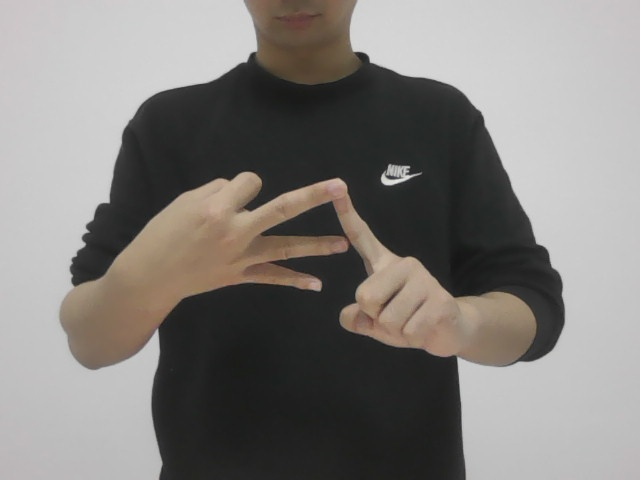name: (144, 174, 473, 358)
